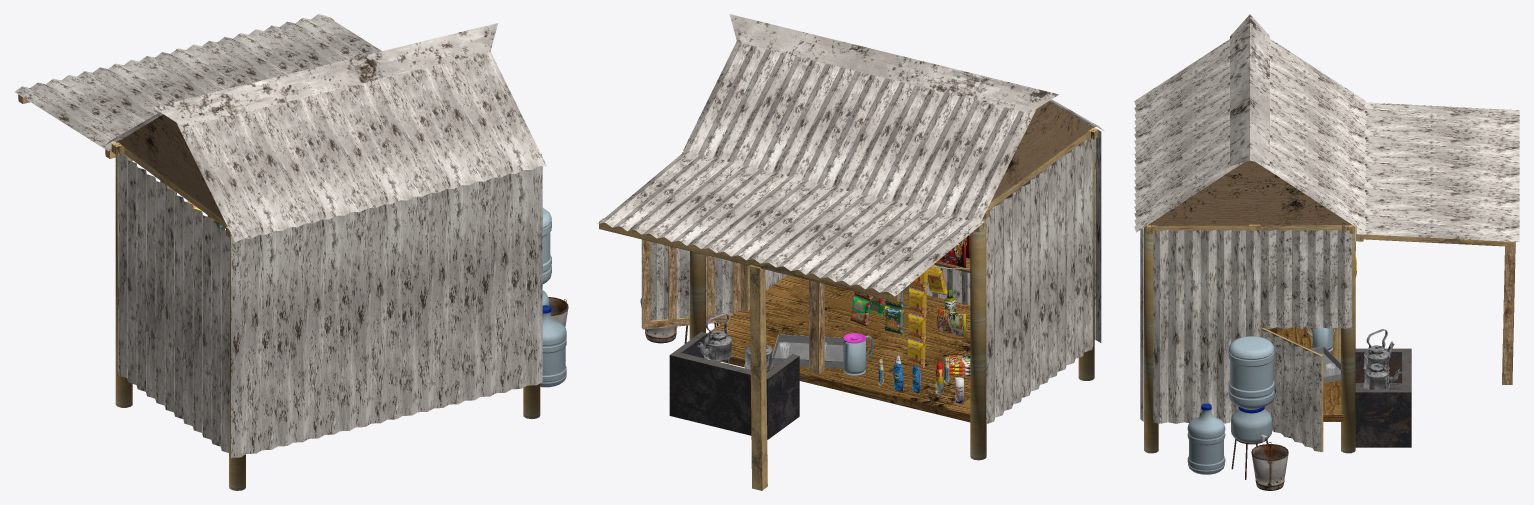
The model's file is tea-stall.glb.
3 renders of one model, left to right at view 1: azimuth 30°, elevation 25°; view 2: azimuth 150°, elevation 25°; view 3: azimuth 270°, elevation 25°, orthographic. The views are drawn at different scales.
Parts seen in each view (by area): view 1: tea_lambert6_0.008; view 2: tea_lambert6_0.008; view 3: tea_lambert6_0.008.
Part boxes in pixels (x1=…): tea_lambert6_0.008: x1=15, y1=14, x2=568, y2=490; tea_lambert6_0.008: x1=598, y1=14, x2=1104, y2=490; tea_lambert6_0.008: x1=1134, y1=14, x2=1519, y2=490.
Bounding box in the file's own units: 17.04 × 13.25 × 15.42.
22 materials, 21 textured.
